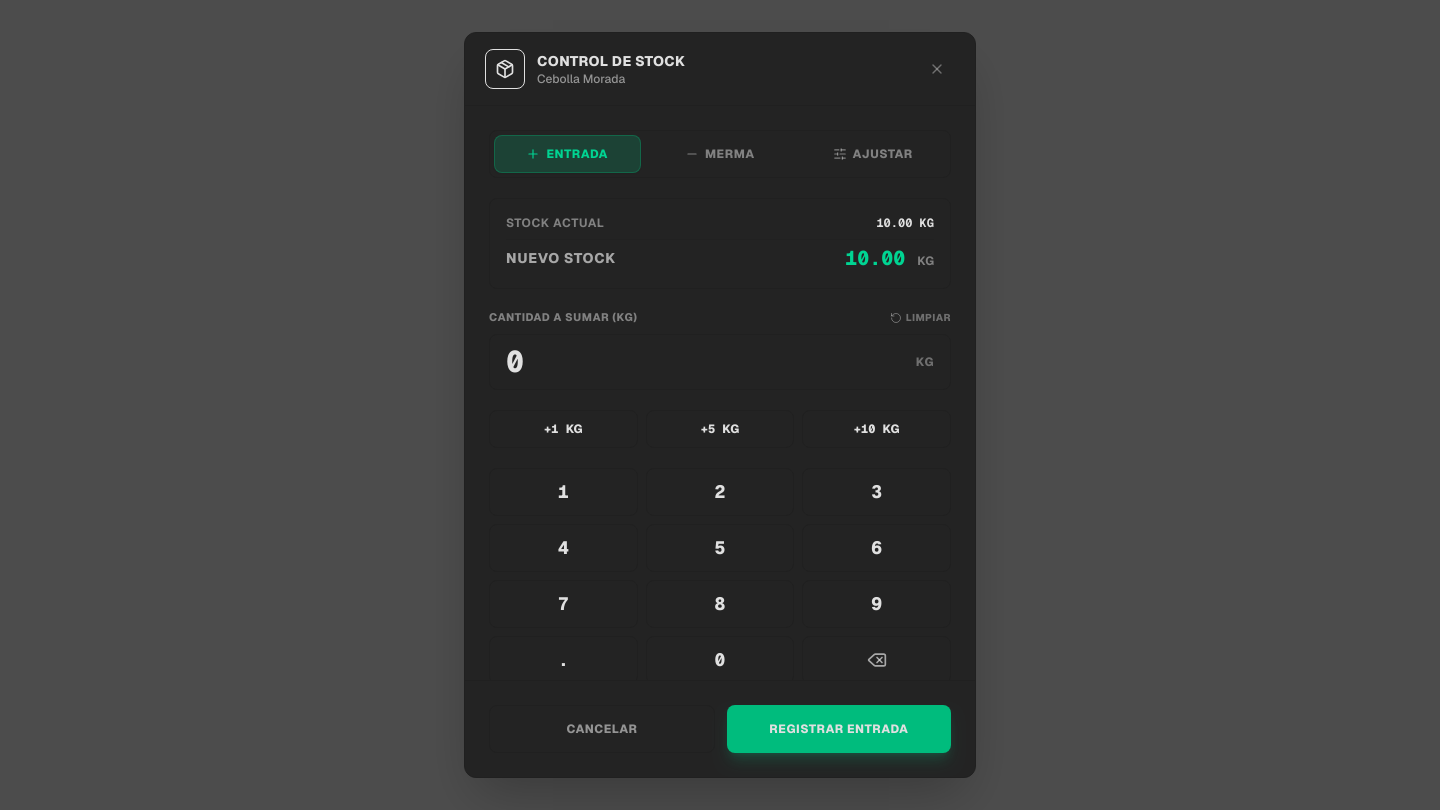
Test case: InventoryActionDrawer Component › should switch between action tabs (Entrada, Merma, Ajustar)
The width and height of the screenshot is (1440, 810).
Note: Click Merma mode
Click the button "Merma": {"x": 720, "y": 154} [647,135,793,173]
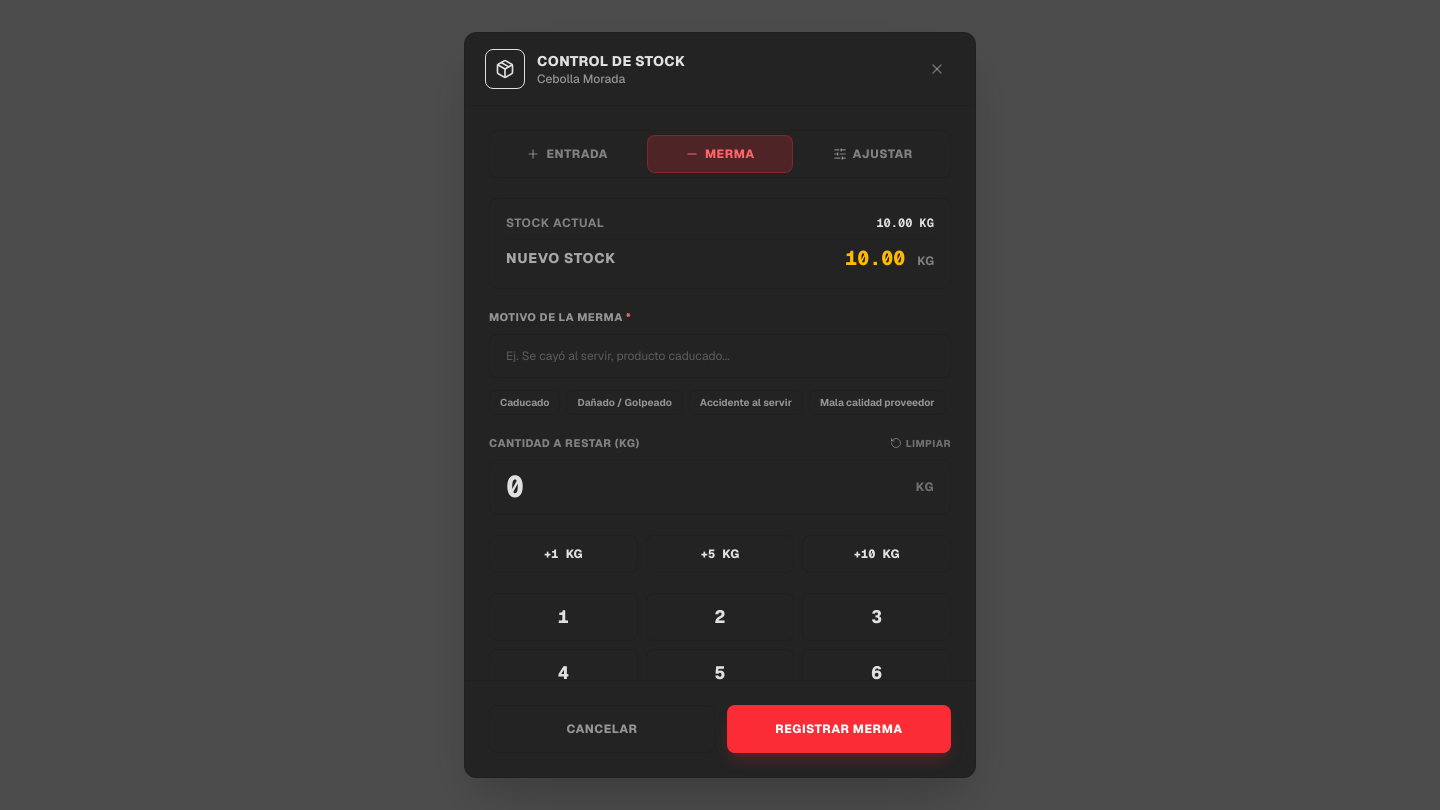
Expected: the text "Motivo de la merma" is shown, [489,310,626,324]
Note: Click suggestion chips
Click the button "Caducado": {"x": 525, "y": 402} [489,390,560,415]
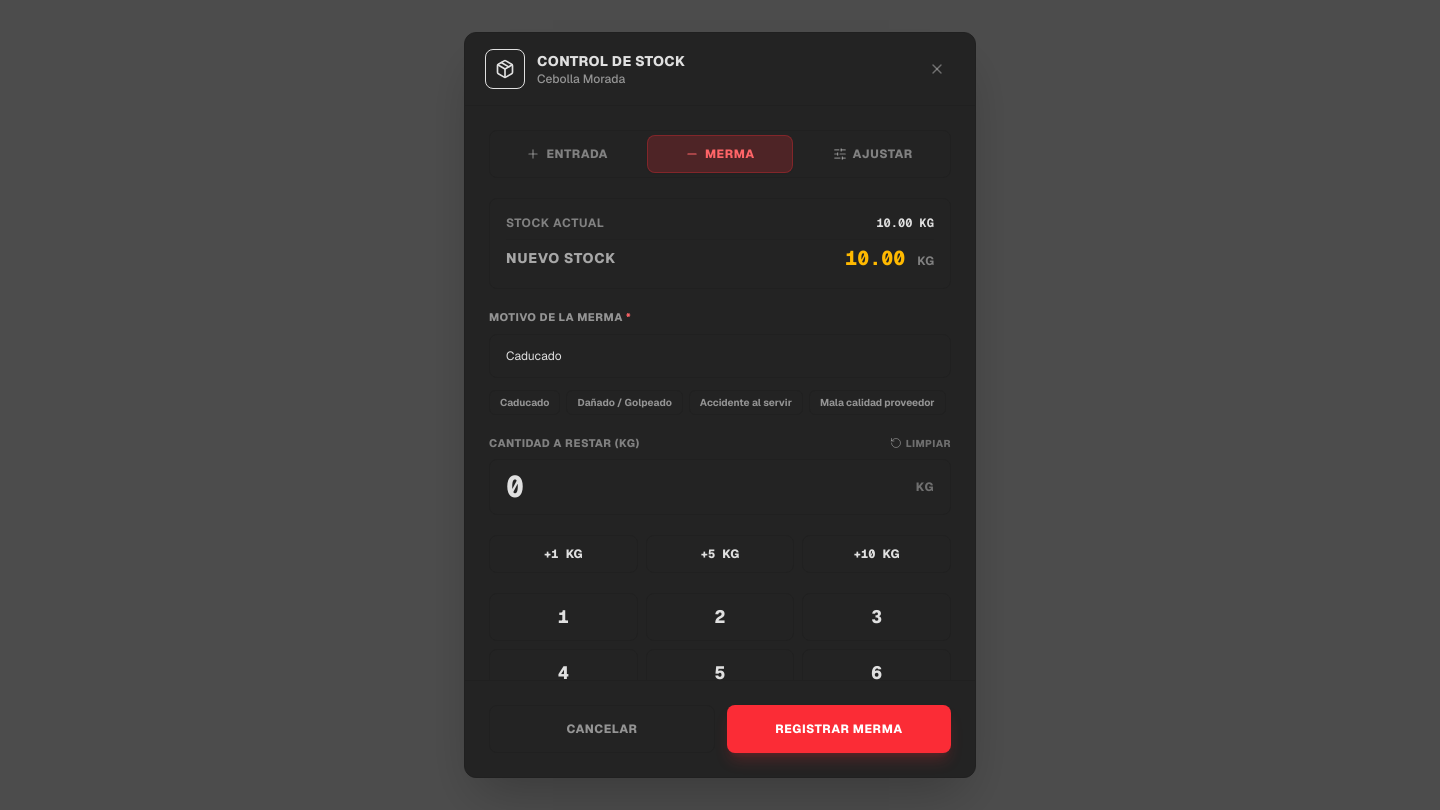
Expected: the field with placeholder "Ej. Se cayó al servir, producto caducado..." holds "Caducado", [489,334,951,378]
Note: Click Ajustar mode
Click the button "Ajustar": {"x": 873, "y": 154} [799,135,946,173]
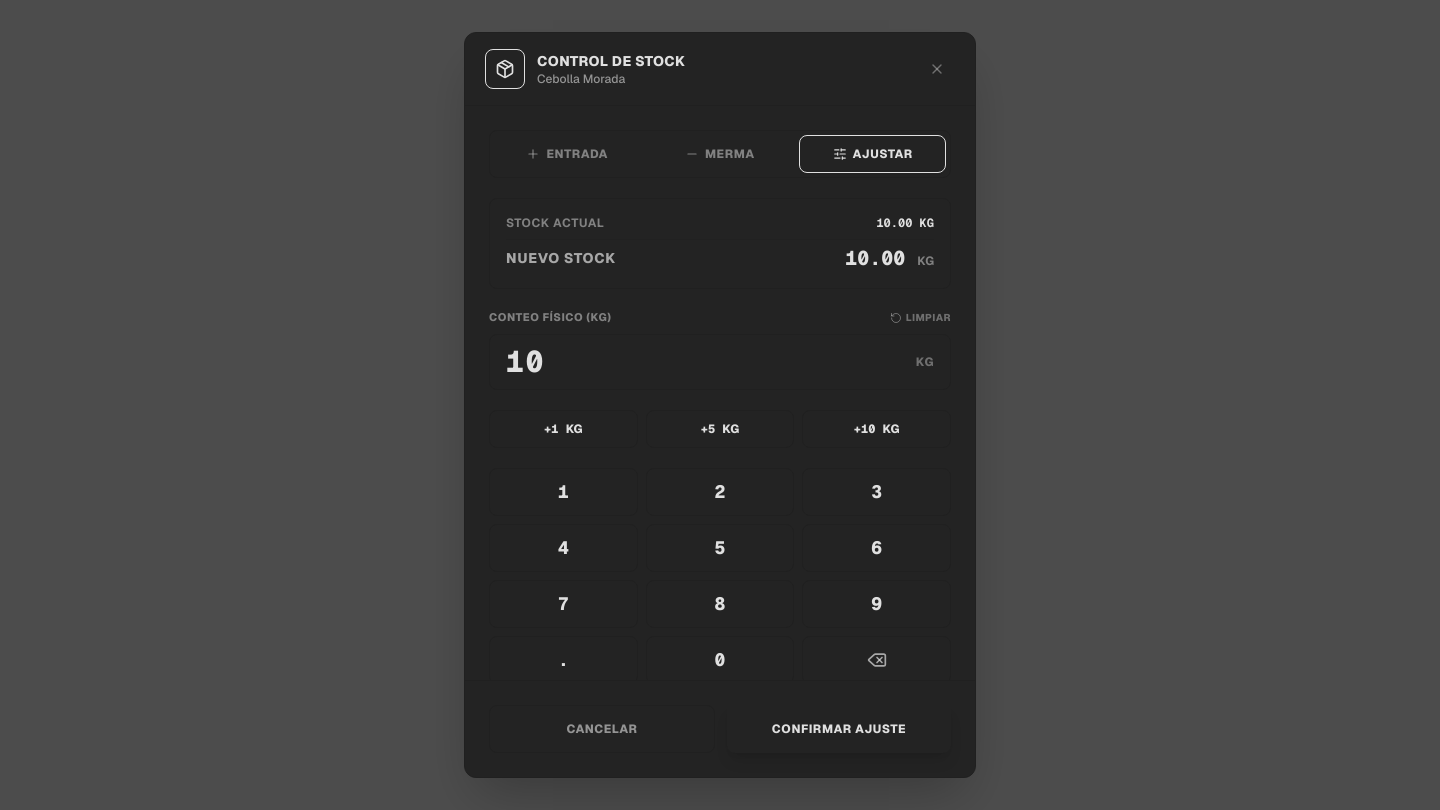
Expected: the text with test id "keypad-display" reads "10", [506,342,545,381]
Note: Click Entrada mode
Click the button "Entrada": {"x": 567, "y": 154} [494,135,641,173]
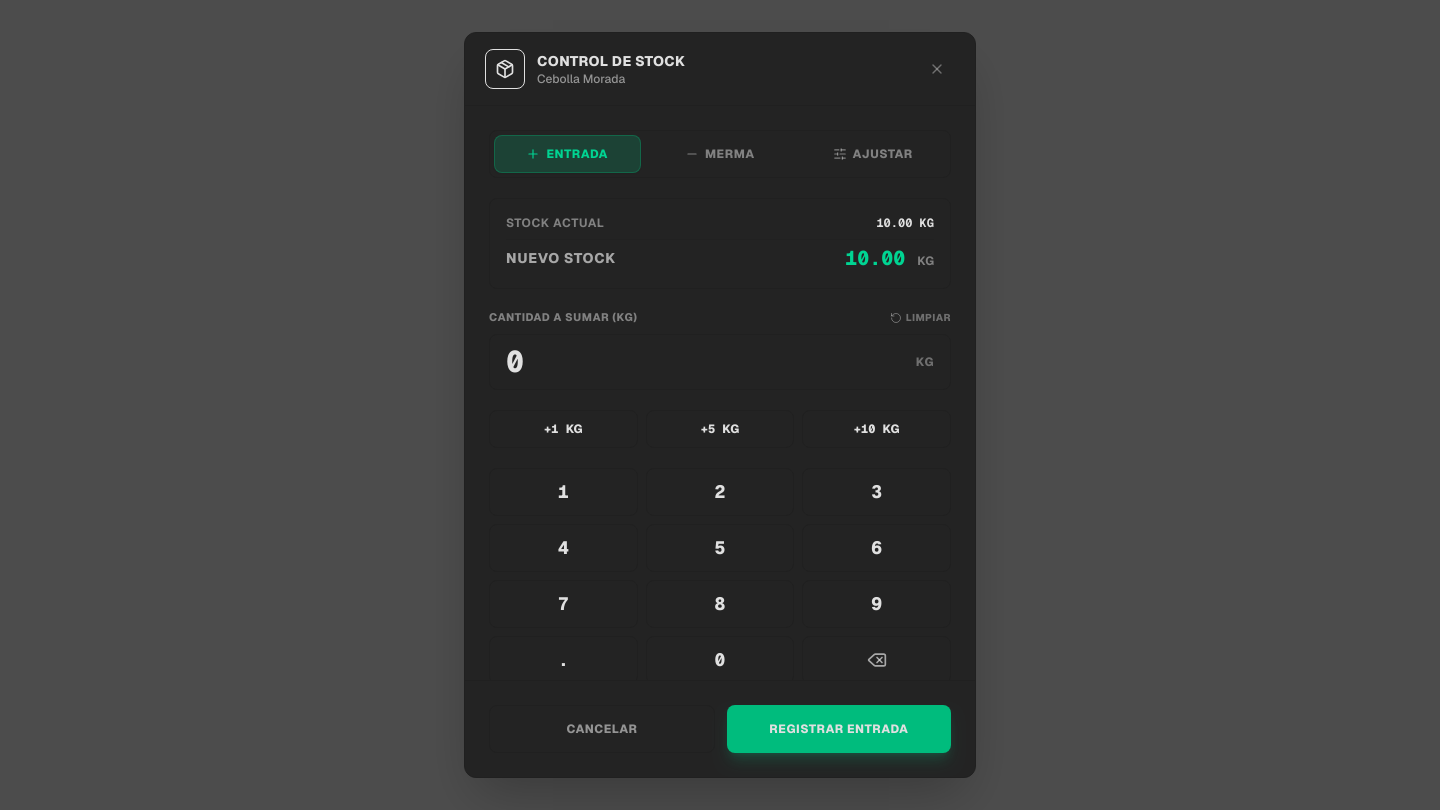
Expected: the text with test id "keypad-display" reads "0", [506,342,526,381]
